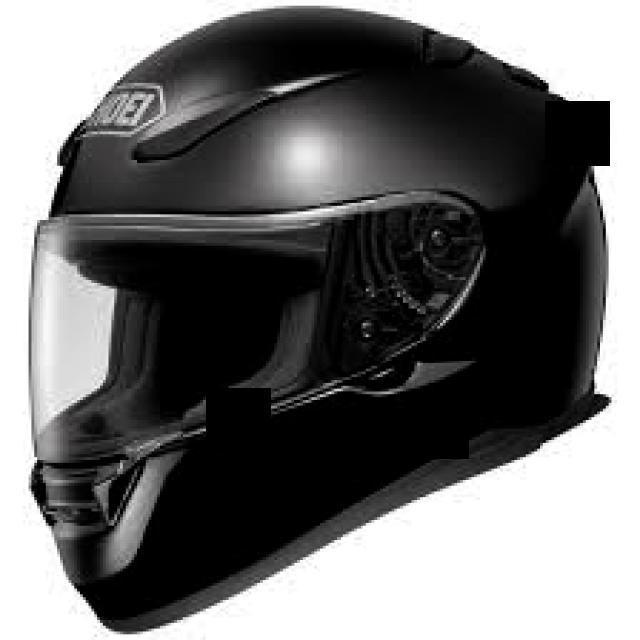helmet on: (31, 14, 609, 632)
